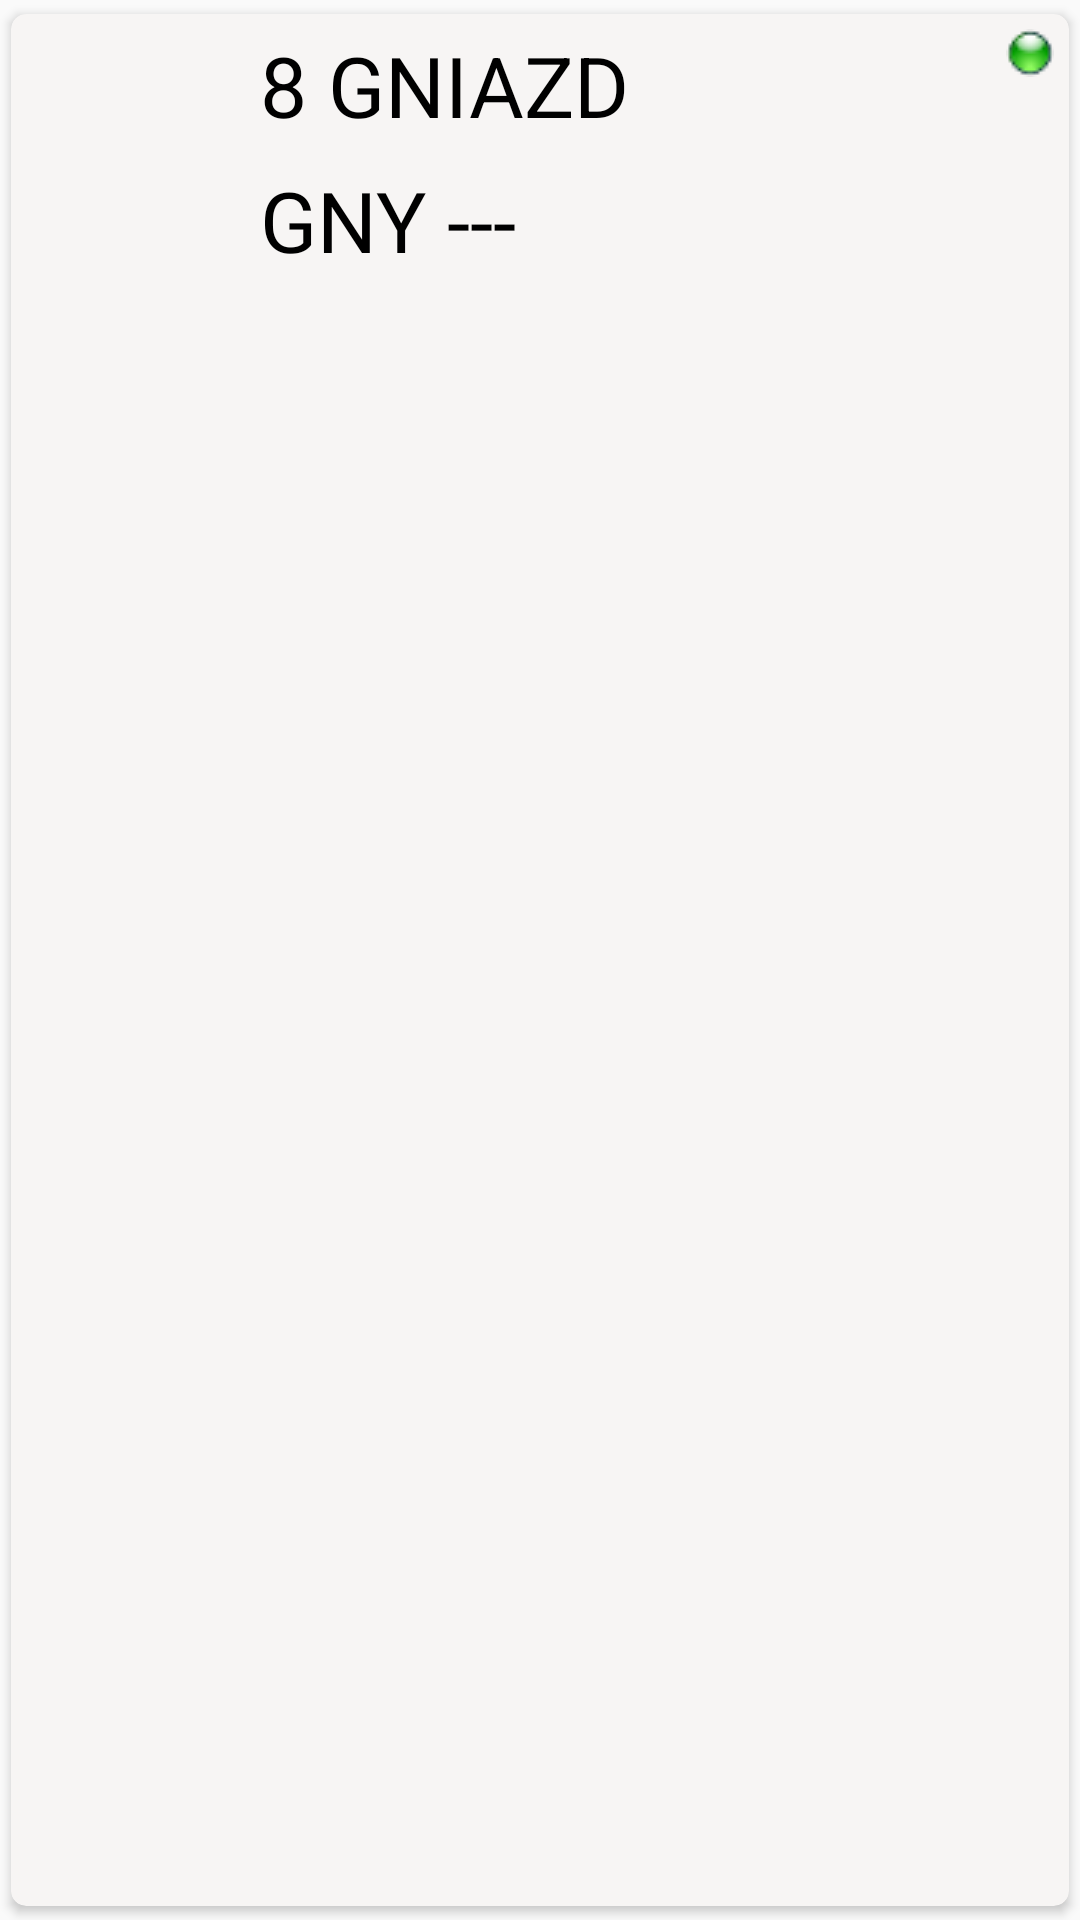

Where to tap for icons on this 1080 x 1920 app screen, as (x,y):
ledgreen: (1030,53)
